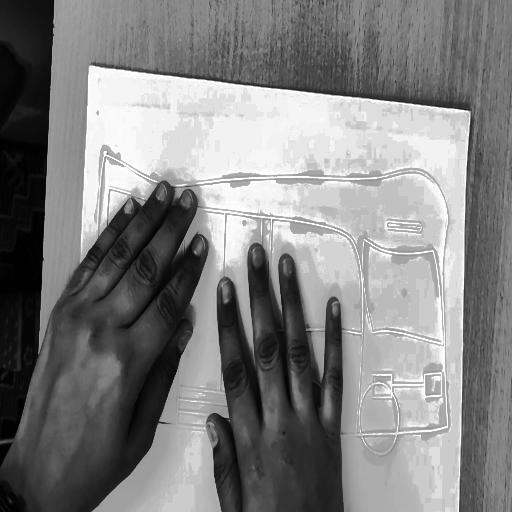bus: (67, 118, 484, 473)
top_left: (85, 60, 93, 74)
top_right: (466, 103, 474, 121)
